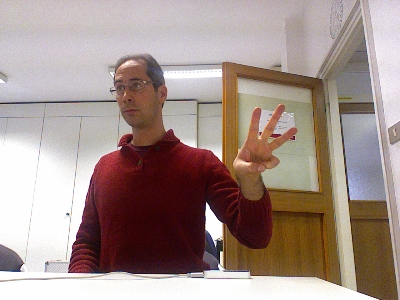三分: (231, 101, 298, 179)
